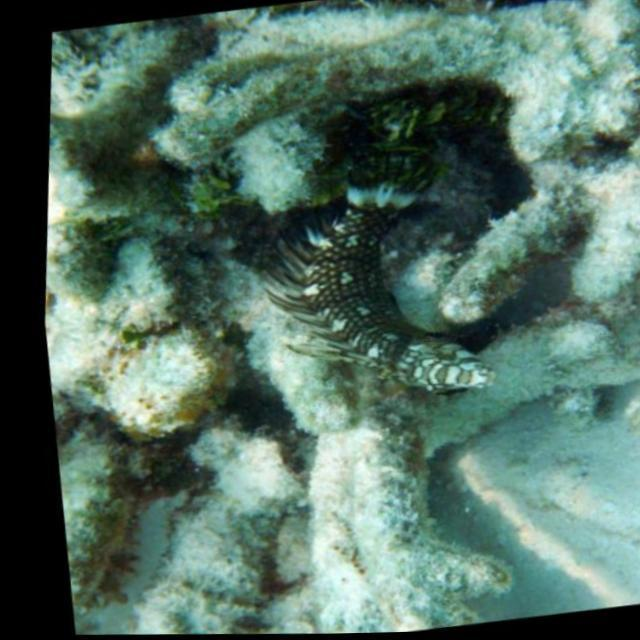Dead Coral: (1, 4, 332, 639), (221, 0, 640, 193), (454, 137, 640, 443), (281, 411, 525, 636)
